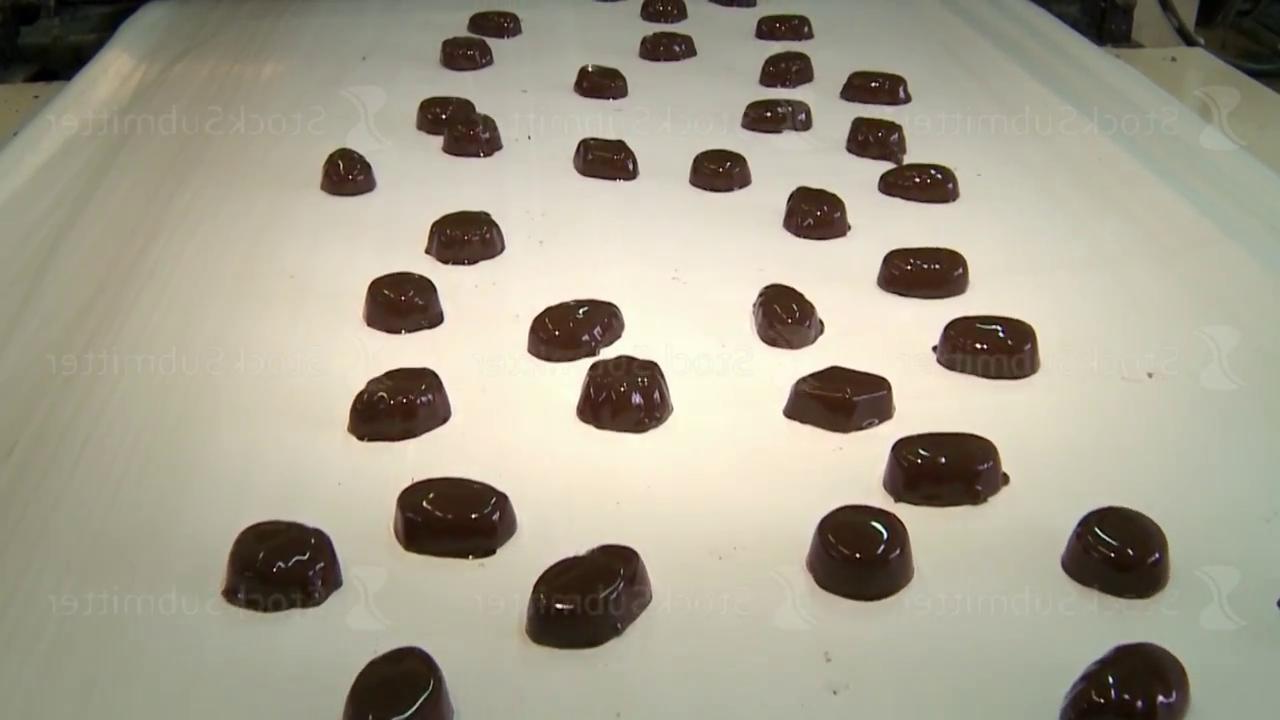chocolate: (526, 543, 653, 649), (222, 519, 343, 612), (806, 503, 915, 601), (1059, 641, 1191, 719), (394, 476, 518, 559), (1061, 505, 1170, 599), (883, 431, 1009, 507), (342, 645, 455, 719), (348, 366, 451, 442), (783, 365, 895, 433), (577, 354, 673, 433), (934, 314, 1040, 379), (528, 298, 625, 362), (363, 271, 444, 334), (877, 246, 969, 298), (753, 283, 824, 349), (425, 209, 506, 265), (783, 185, 850, 240), (879, 162, 960, 203), (846, 116, 907, 163), (574, 137, 639, 181), (442, 112, 503, 157), (690, 148, 752, 192), (321, 147, 376, 196), (841, 70, 912, 105), (742, 98, 813, 133), (417, 95, 475, 134), (760, 50, 814, 88), (574, 63, 629, 100), (440, 35, 493, 70), (639, 30, 697, 61), (755, 14, 815, 41), (468, 10, 522, 38)
